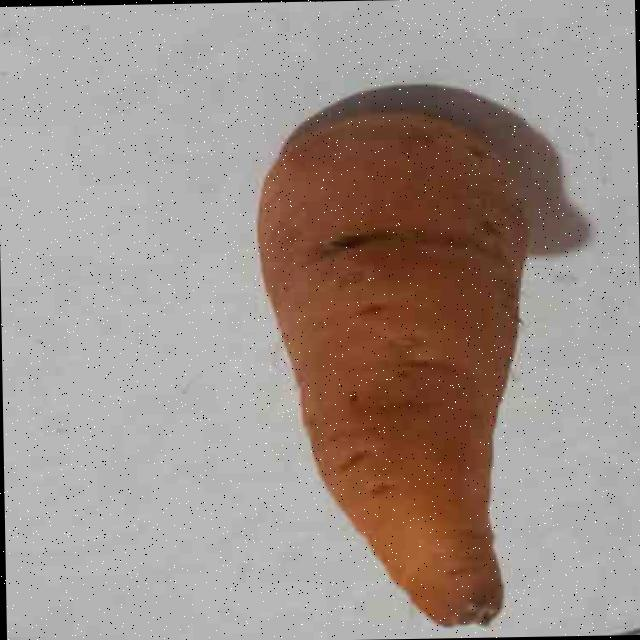carrot: (257, 112, 525, 624)
